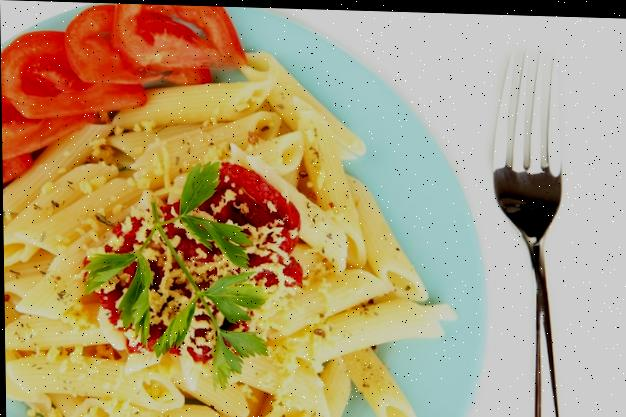pasta: (5, 99, 450, 416)
